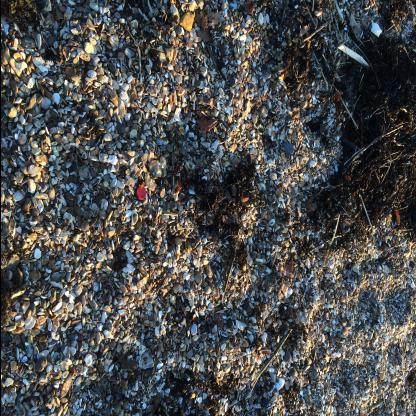plastik: (135, 186, 145, 200)
